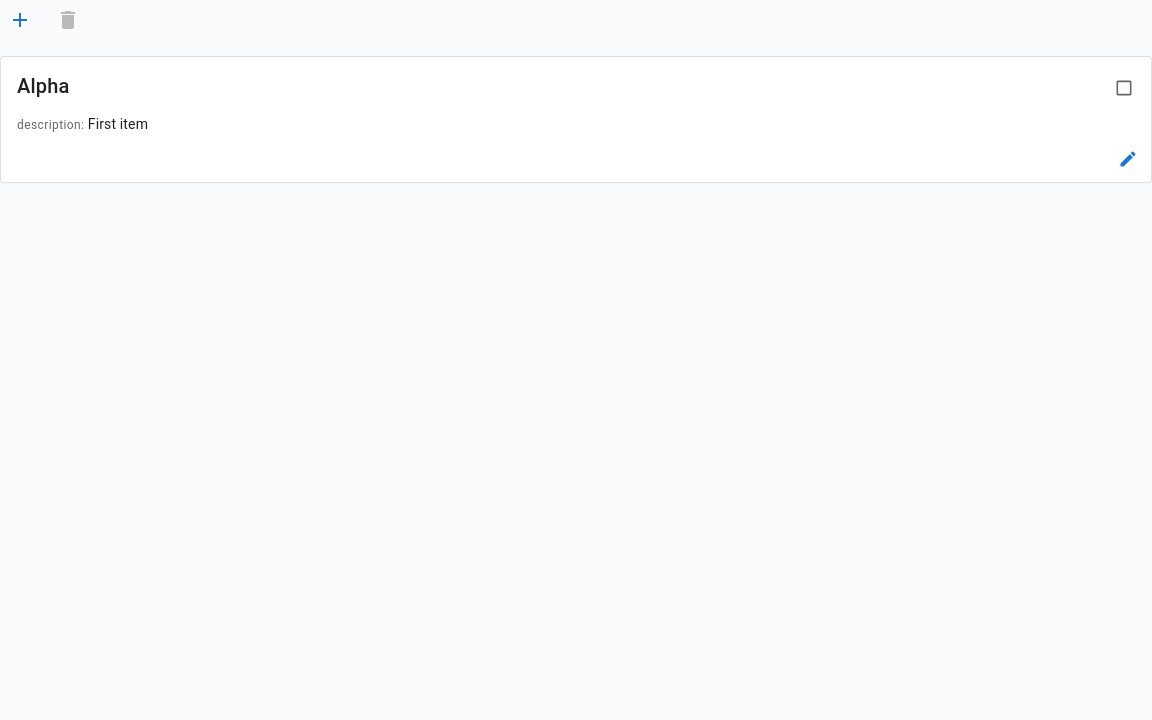
Test: CardListClient › Delete › opens confirmation dialog when delete button is clicked
Click the checkbox named "Select Alpha": click(1124, 88) [1114, 78, 1134, 98]
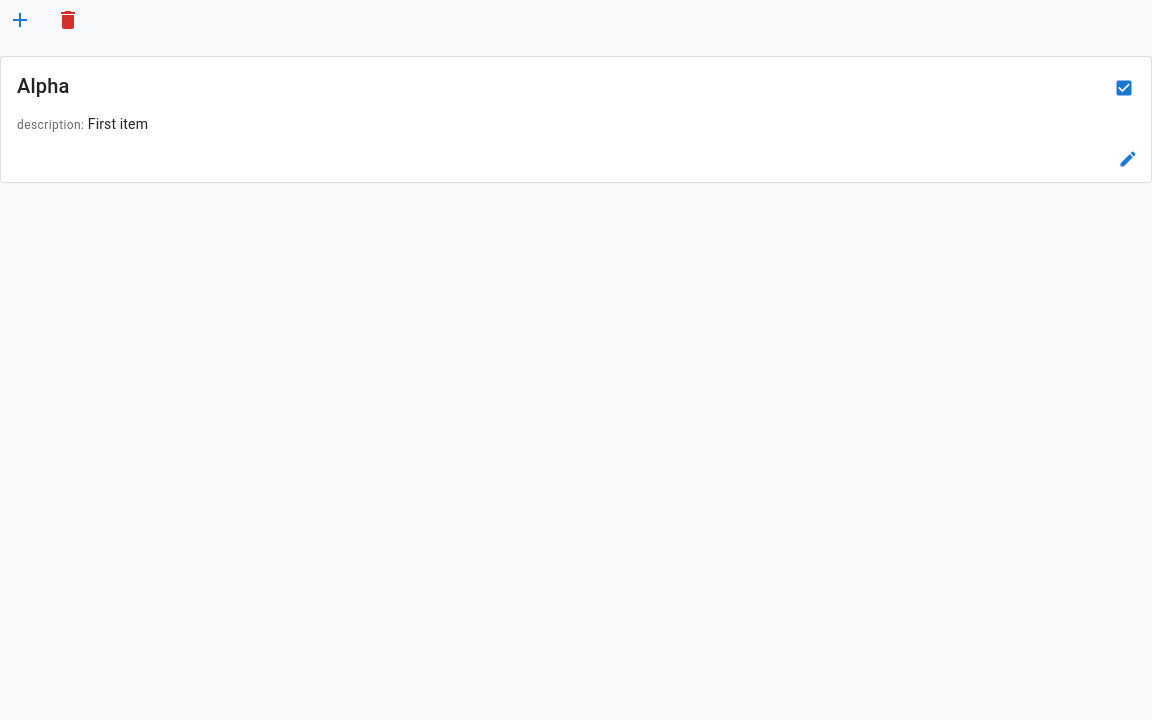
Click the button named "Delete Selected": click(68, 20) [48, 0, 88, 40]
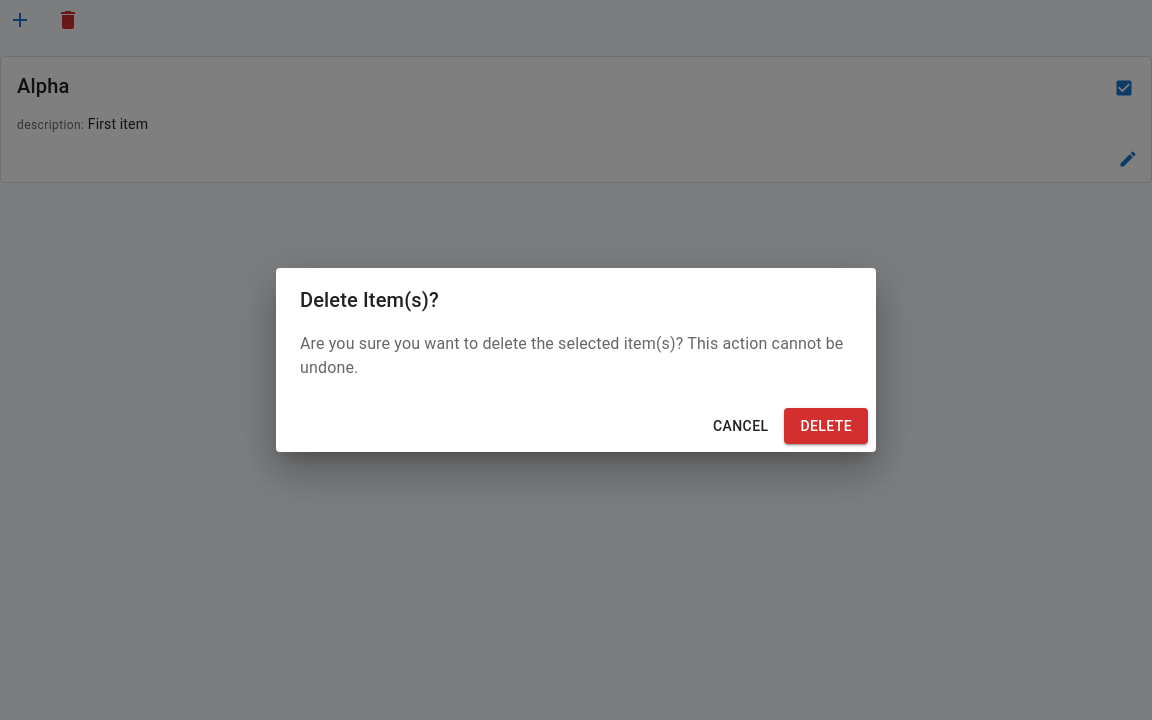
Expected: the heading "Delete Item(s)?" is shown, [300, 288, 439, 312]
